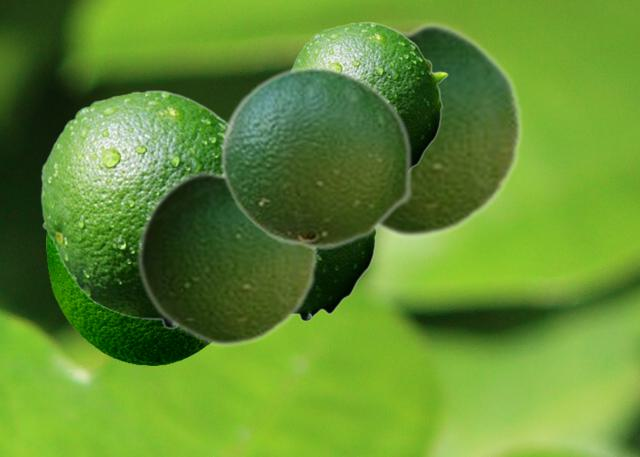dalandan: (40, 89, 226, 329), (219, 65, 412, 250), (136, 165, 318, 348), (378, 19, 523, 240), (291, 21, 447, 167), (46, 232, 209, 364), (298, 231, 377, 321)
